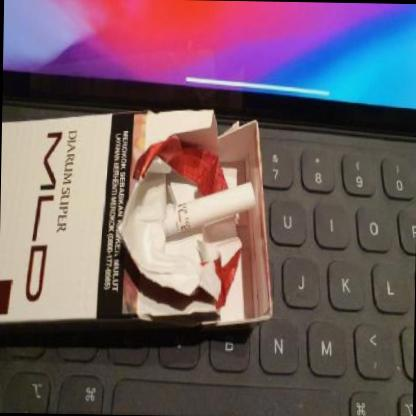objects: (0, 107, 275, 332)
